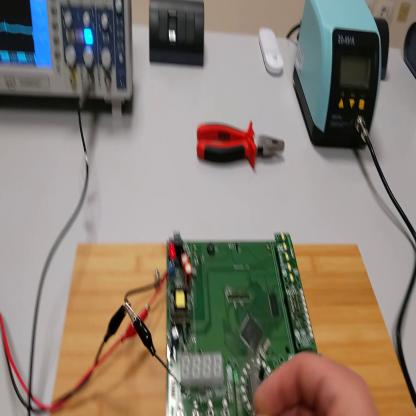hand: (254, 355, 378, 416)
low voltage board: (125, 225, 323, 416)
oscilloscope: (2, 1, 135, 118)
oscilloscope probe tip: (247, 363, 258, 416)
pliers: (195, 120, 286, 175)
socket: (375, 19, 392, 81), (404, 18, 416, 78)
welder station: (294, 2, 381, 153)
working area: (51, 224, 415, 414)
